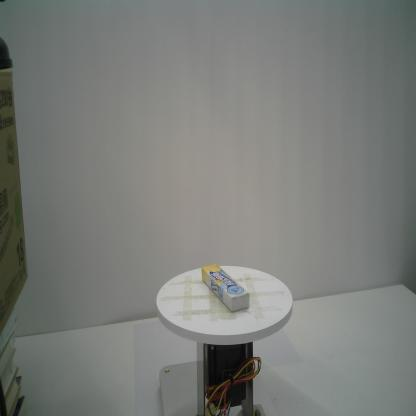Candy: (201, 263, 250, 313)
